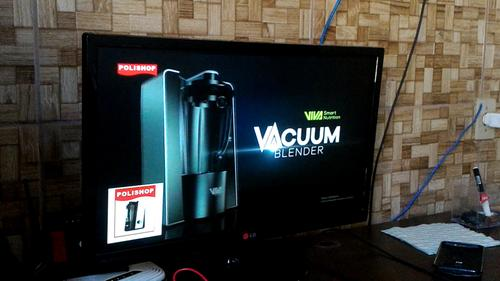Polishop #1: (107, 181, 163, 244)
